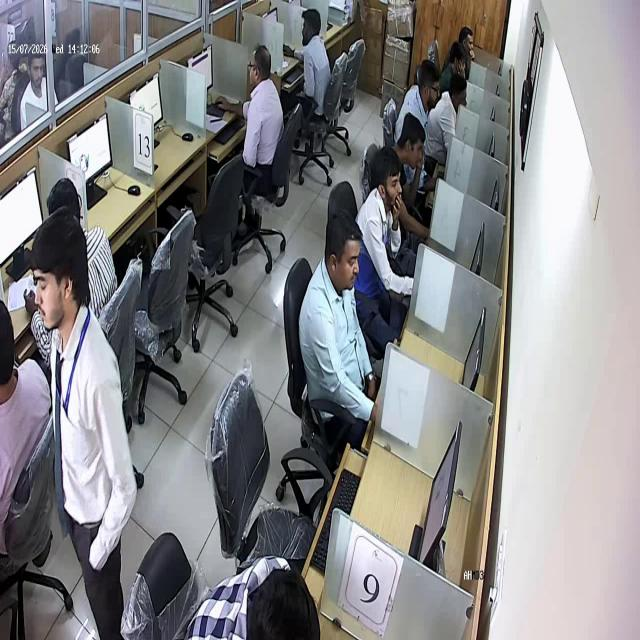paper-chit: (24, 274, 36, 297)
